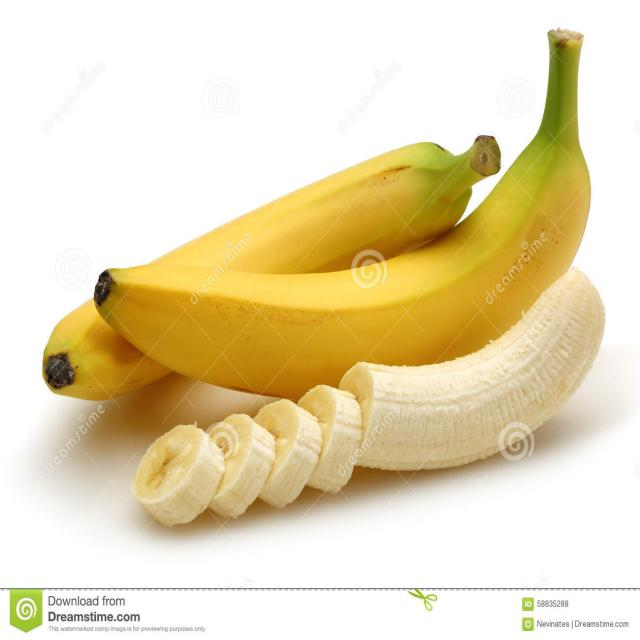banana: (142, 262, 605, 551), (93, 166, 582, 374), (54, 140, 452, 372)
